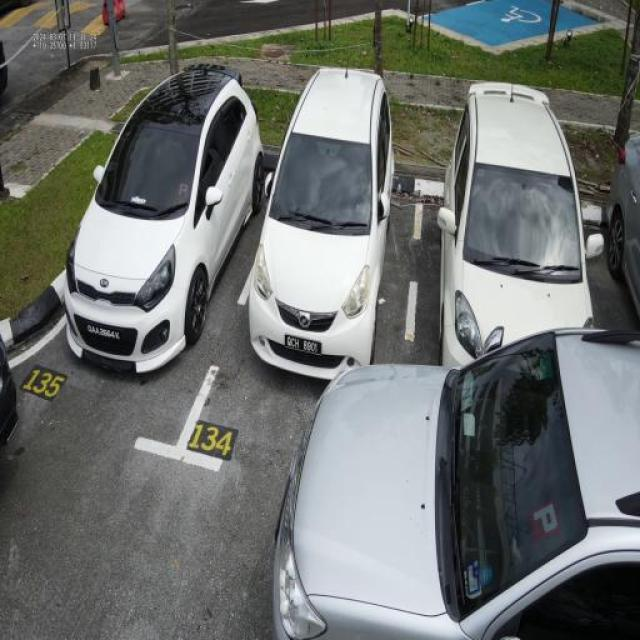Legalparking: (0, 0, 640, 408)
illegalparking: (0, 313, 640, 640)
